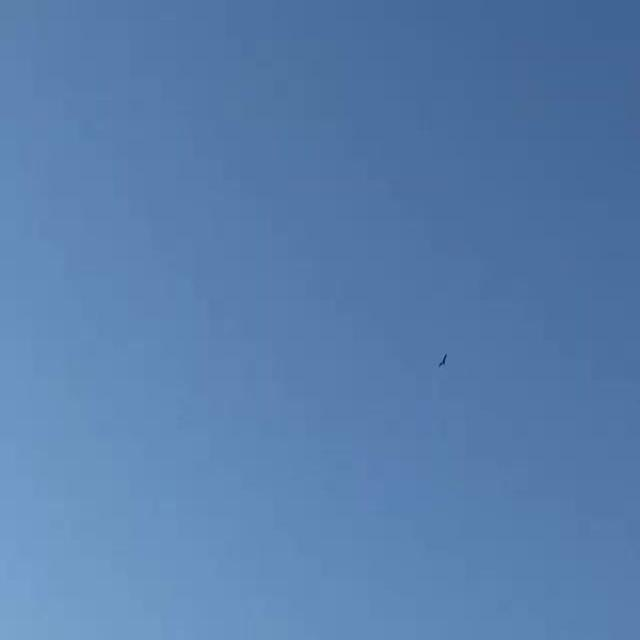bird: (436, 352, 452, 366)
